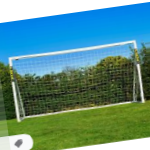goals: (8, 39, 146, 123)
